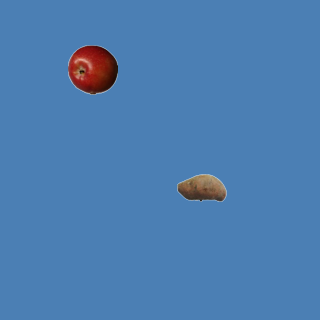Apple Braeburn: (67, 44, 117, 94)
Potato Sweet: (176, 162, 226, 212)
